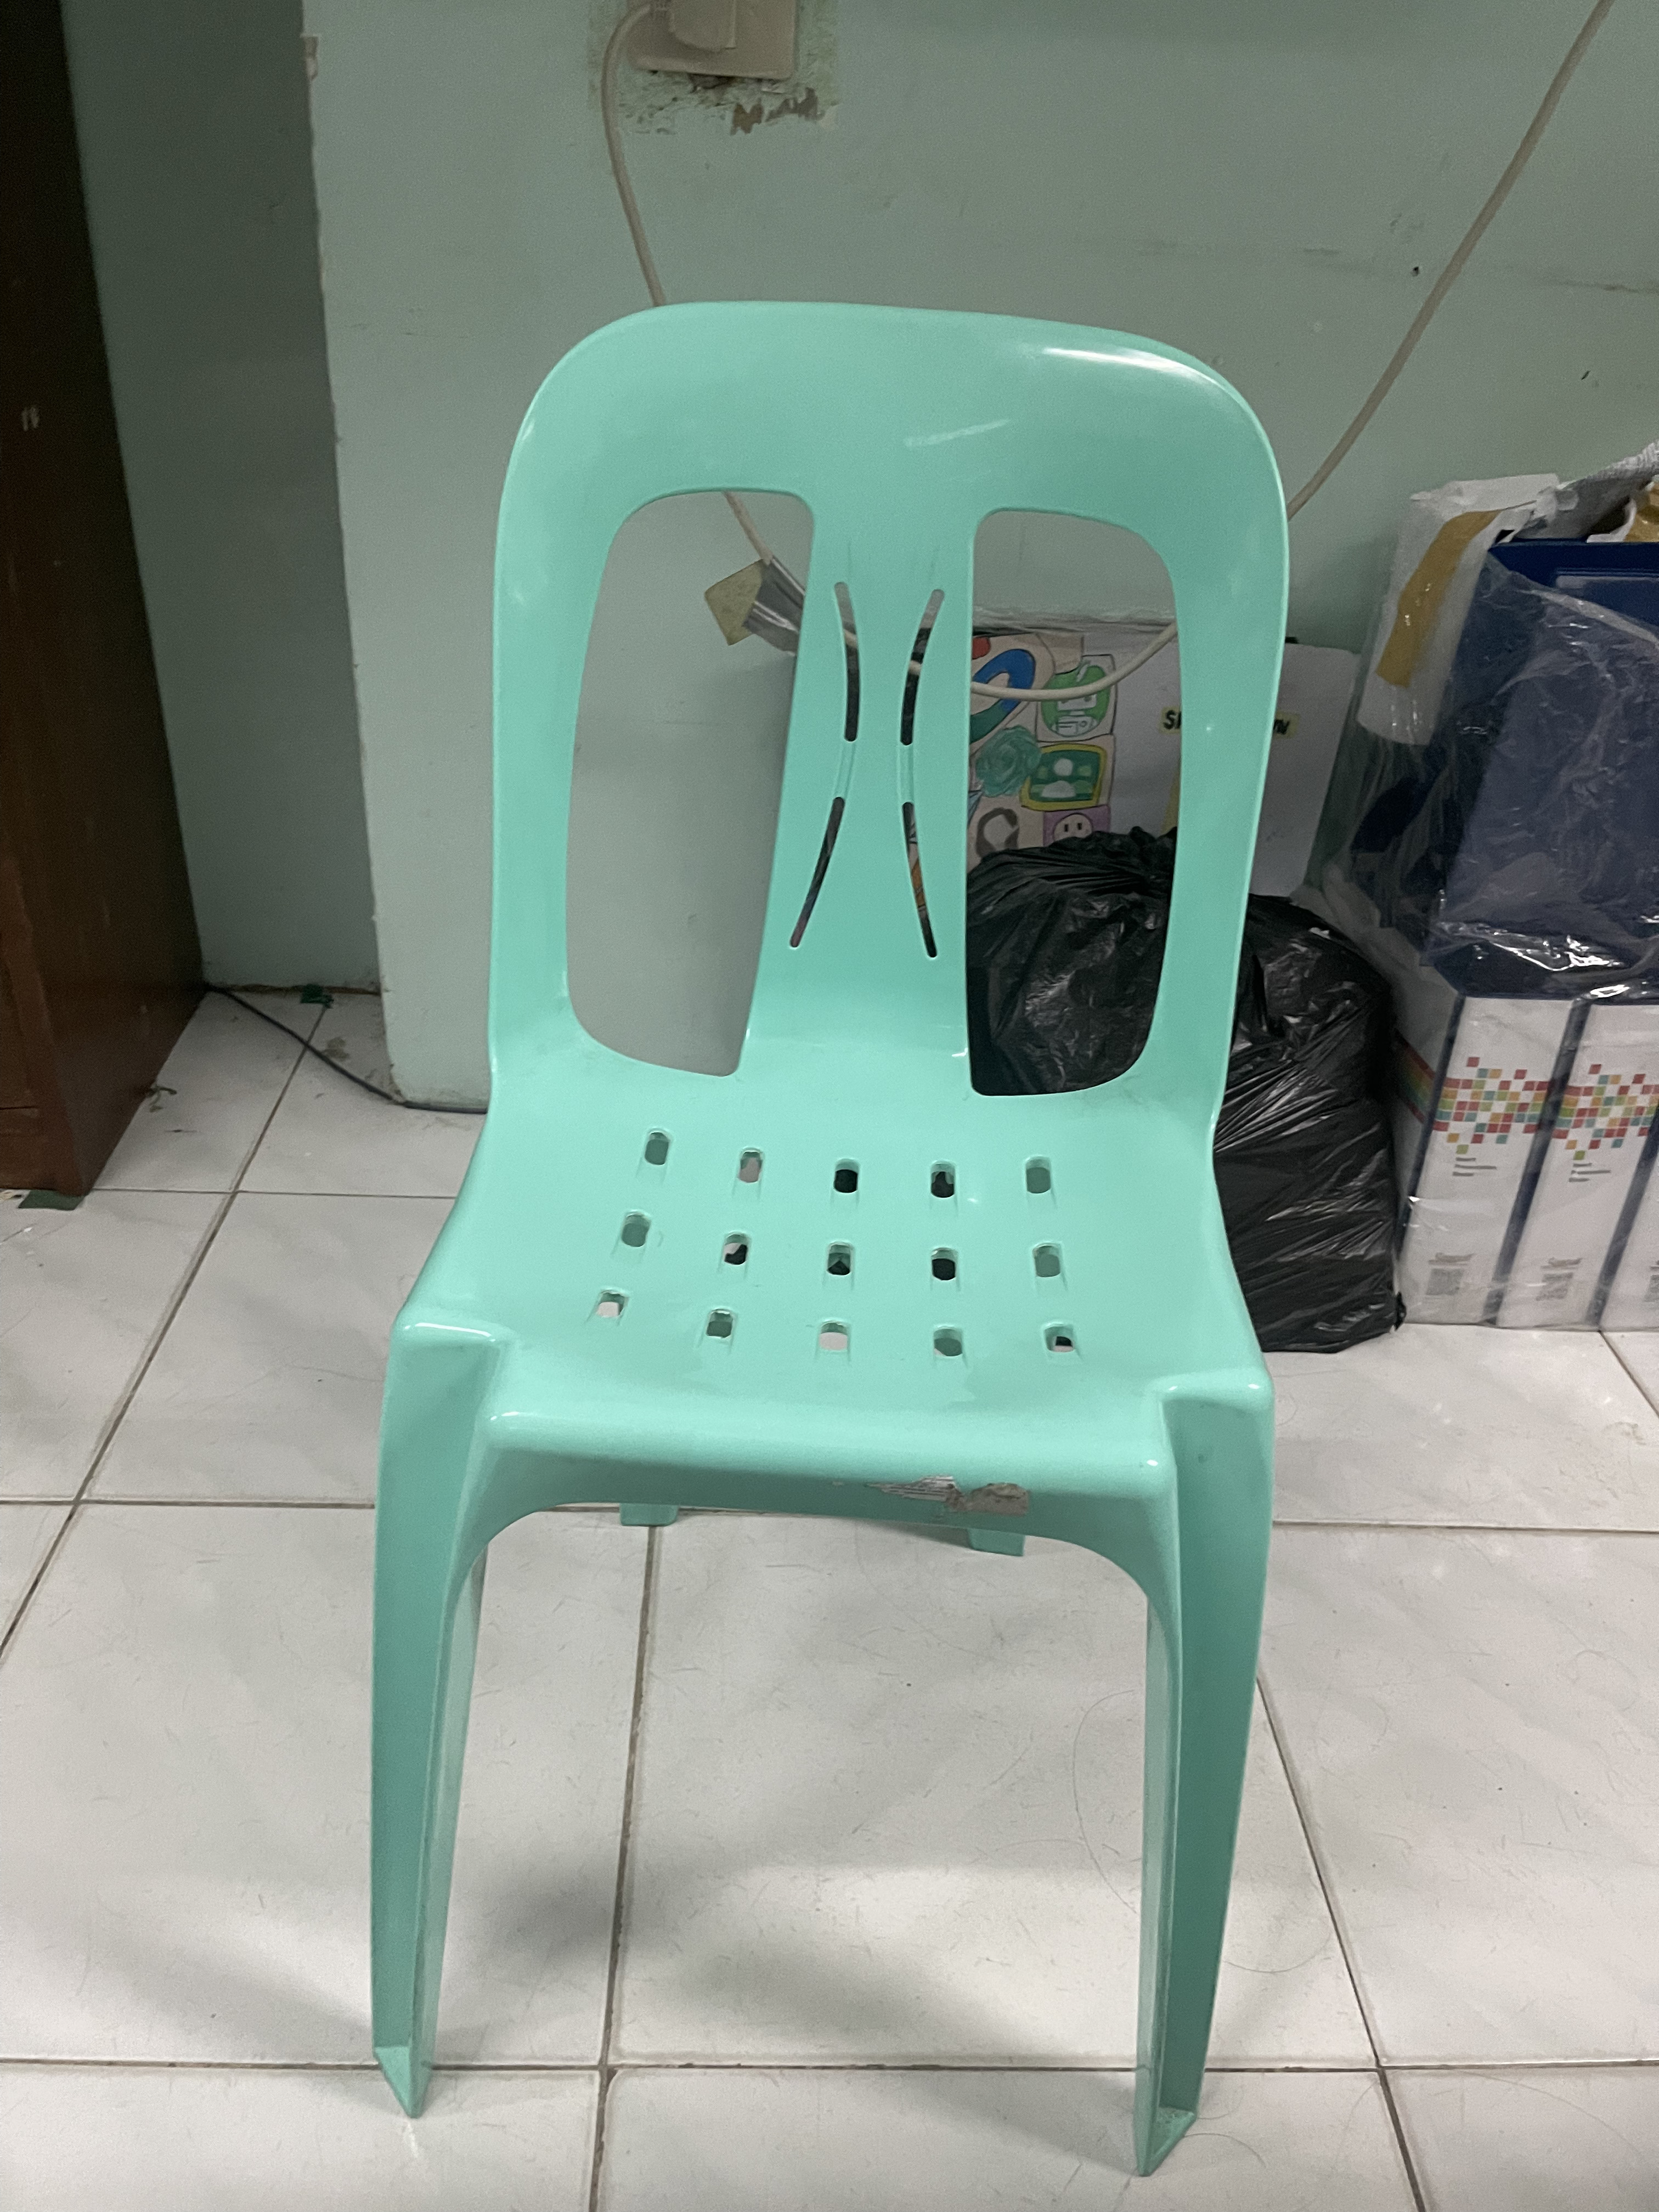chair2: (345, 284, 1310, 2191)
